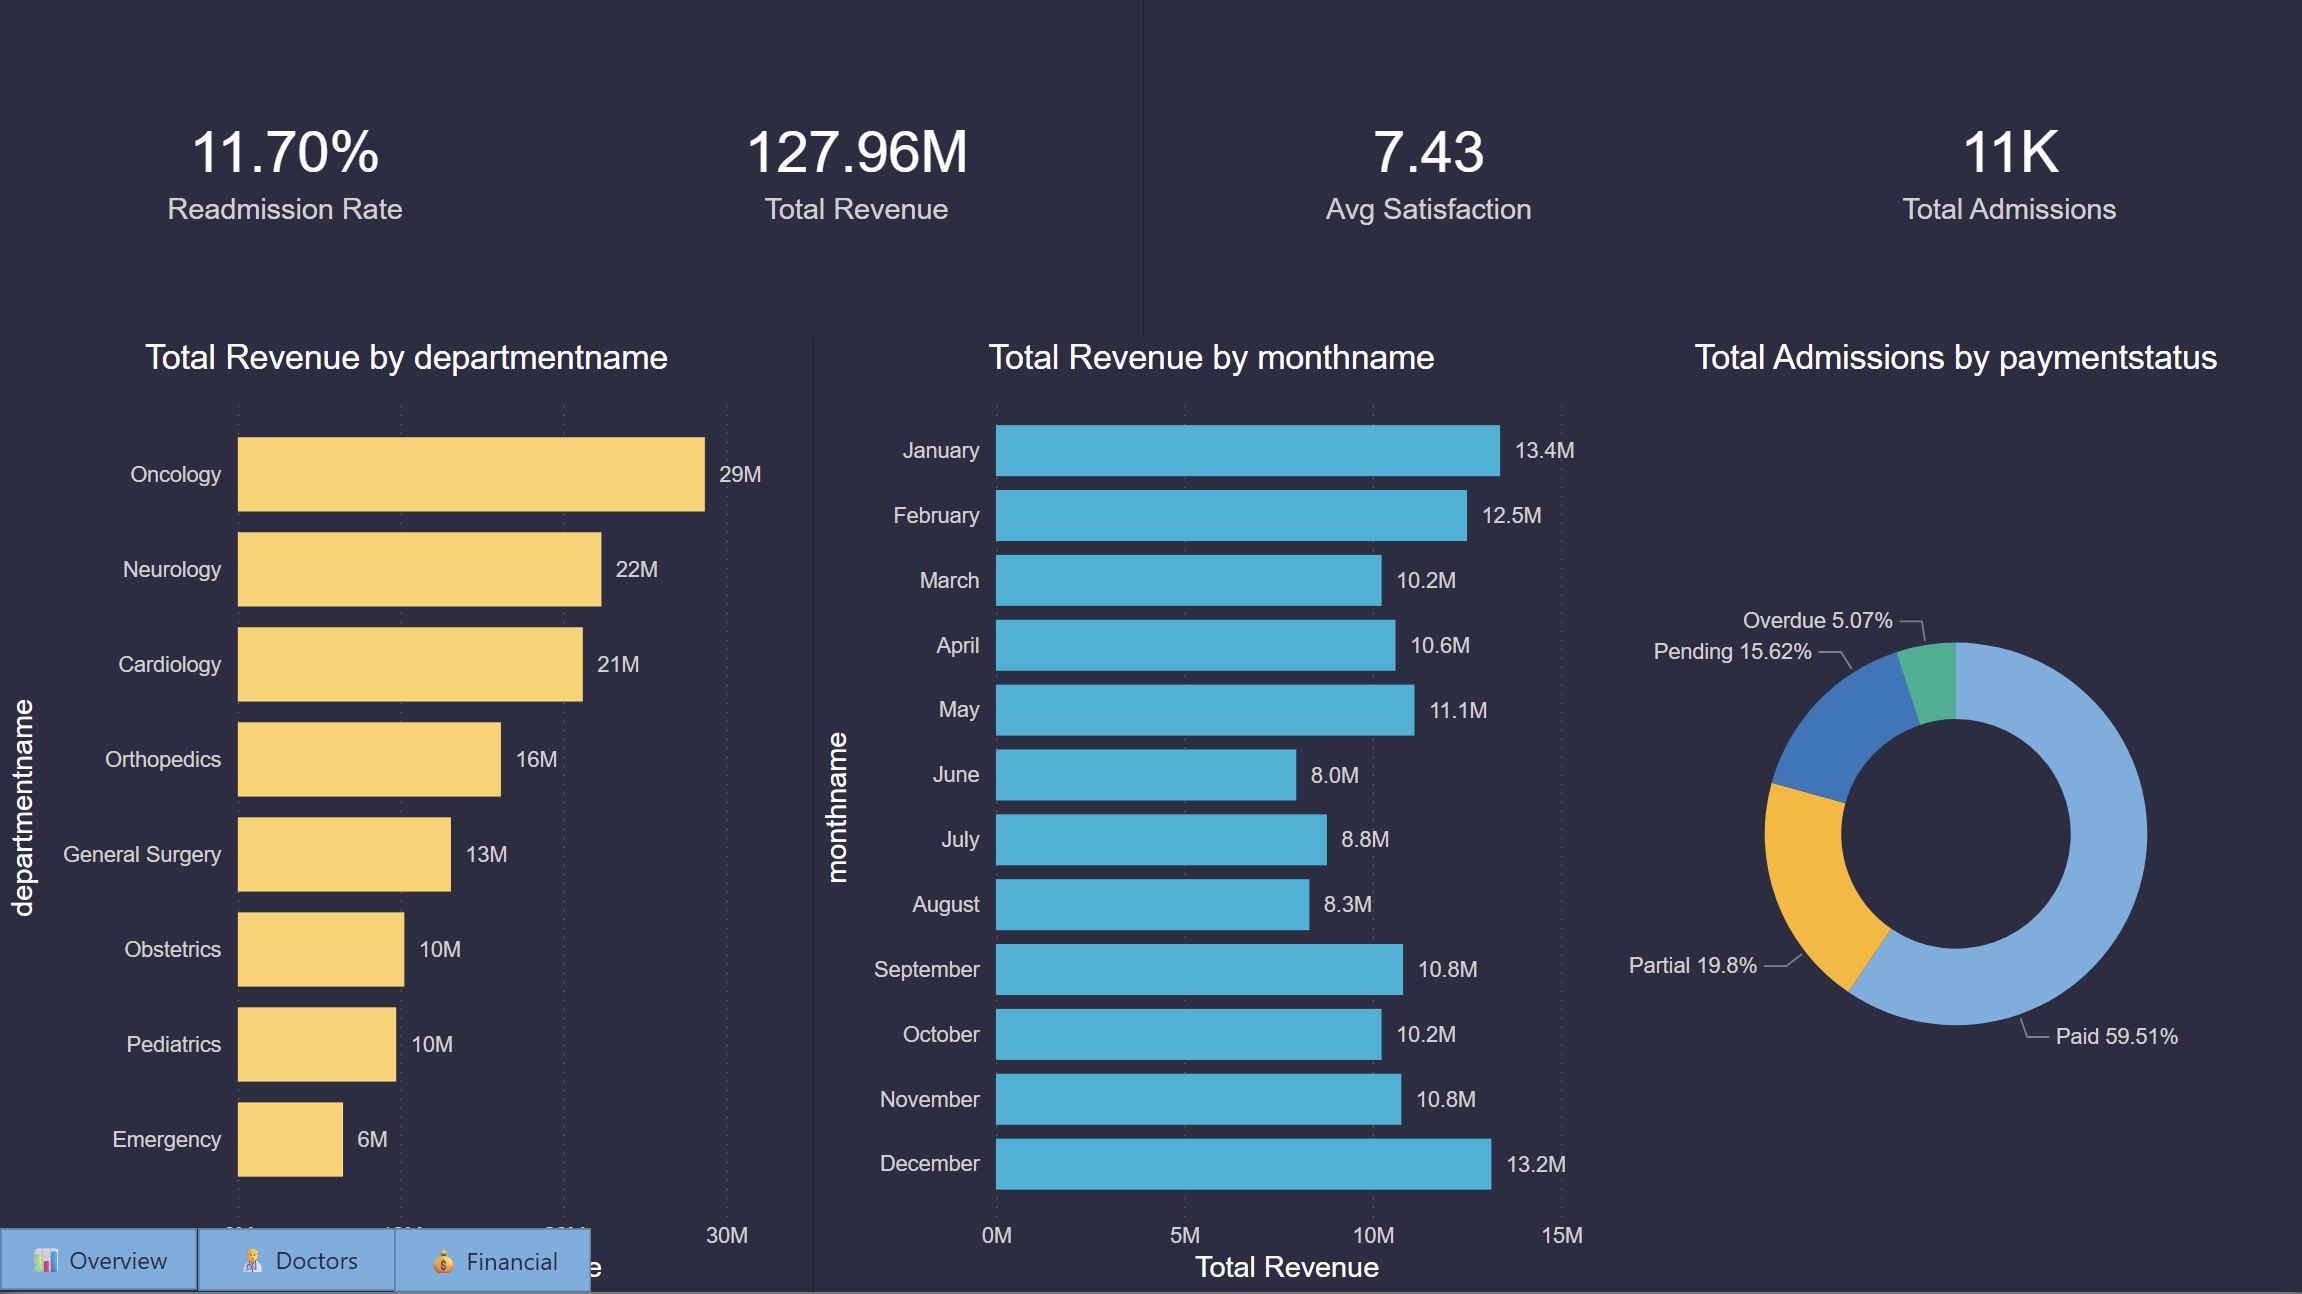

The page's visual inventory and layout, read from the dashboard file:
{"tool":"powerbi","page":{"name":"Financial Overview","canvas":[1280,720],"ordinal":2},"visuals":[{"type":"clusteredBarChart","fields":{"Category":["public dim_department.departmentname"],"Y":["public dim_date.Total Revenue"]},"box":[0,190,451.7,530],"z":0},{"type":"clusteredBarChart","fields":{"Category":["public dim_date.monthname"],"Y":["public dim_date.Total Revenue"]},"box":[451.7,190,441.7,530],"z":1000},{"type":"donutChart","fields":{"Y":["public dim_date.Total Admissions"],"Category":["public fact_billing.paymentstatus"]},"box":[893.3,190,386.7,530],"z":2000},{"type":"card","fields":{"Values":["public dim_date.Total Revenue"]},"box":[316.7,0,318.3,190],"z":3000},{"type":"card","fields":{"Values":["public dim_date.Avg Satisfaction"]},"box":[635,0,316.7,190],"z":4000},{"type":"card","fields":{"Values":["public dim_date.Total Admissions"]},"box":[951.7,0,328.3,190],"z":5000},{"type":"card","fields":{"Values":["public dim_date.Readmission Rate"]},"box":[0,0,316.7,190],"z":6000},{"type":"shape","box":[0,684.3,109.6,34.4],"z":10000},{"type":"shape","box":[110,684.3,110,35],"z":11000},{"type":"shape","box":[219.3,684.3,109.6,35.7],"z":12000}]}

Visuals, with their boxes on the page's 1280x720 design canvas (x1, y1, x2, y2). These are canvas units, not pixel positions in the 2302x1294 screenshot, which may show the page scaled, cropped or inside an application window:
clusteredBarChart - public dim_department.departmentname x public dim_date.Total Revenue: [0,190,452,720]
clusteredBarChart - public dim_date.monthname x public dim_date.Total Revenue: [452,190,893,720]
donutChart - public dim_date.Total Admissions x public fact_billing.paymentstatus: [893,190,1280,720]
card - public dim_date.Total Revenue: [317,0,635,190]
card - public dim_date.Avg Satisfaction: [635,0,952,190]
card - public dim_date.Total Admissions: [952,0,1280,190]
card - public dim_date.Readmission Rate: [0,0,317,190]
shape: [0,684,110,719]
shape: [110,684,220,719]
shape: [219,684,329,720]
